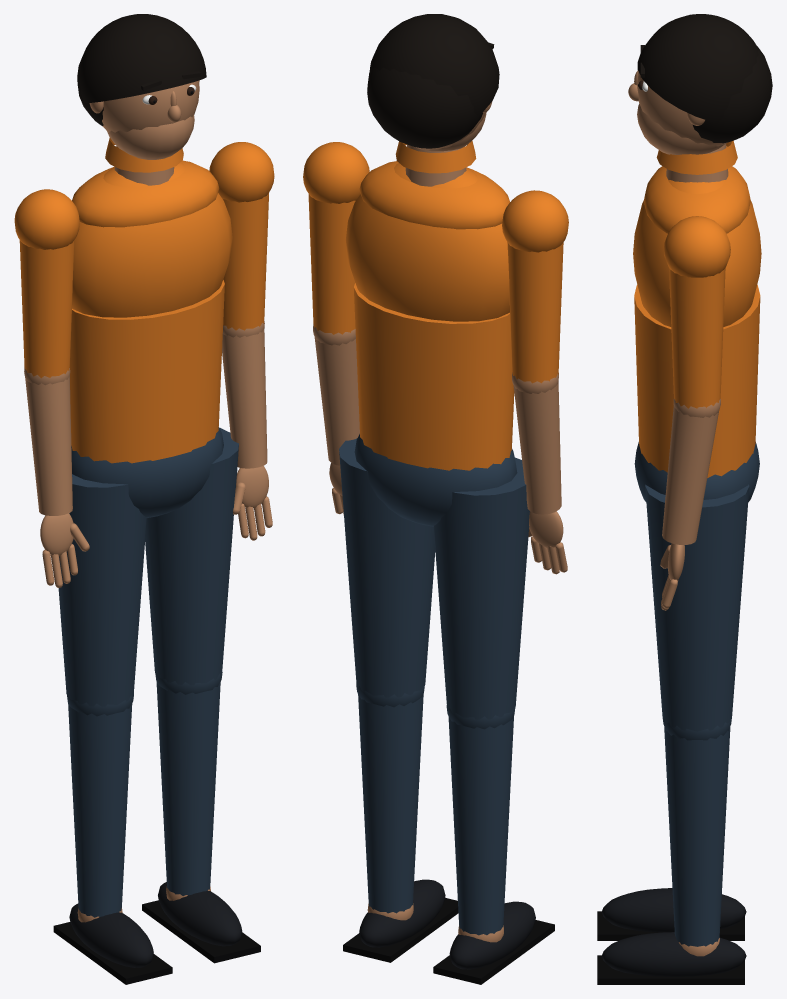
File: villager-market.glb
3 renders of one model, left to right at view 1: azimuth 30°, elevation 25°; view 2: azimuth 150°, elevation 25°; view 3: azimuth 270°, elevation 25°, orthographic. The views are drawn at different scales.
Visible parts, largest first — view 1: leg (×2), arm (×2), object 1, object 2, object 22, object 3, villager-market, object 7, object 8, object 6, object 5; view 2: leg (×2), arm (×2), object 1, object 2, object 22, object 23, object 3, villager-market, object 6, object 5; view 3: leg (×2), arm, object 1, object 22, object 2, object 3, object 23, villager-market, object 7, object 6, object 8, object 5.
Boxes of the visible parts, box(x1,y1,x2,y2) form: leg (×2): box(53, 427, 260, 984); arm (×2): box(14, 142, 274, 587); object 1: box(69, 280, 224, 463); object 2: box(72, 162, 232, 317); object 22: box(79, 14, 206, 102); object 3: box(72, 160, 219, 227); villager-market: box(71, 427, 223, 517); object 7: box(102, 80, 199, 132); object 8: box(107, 114, 194, 159); object 6: box(105, 137, 183, 172); object 5: box(114, 146, 174, 185); leg (×2): box(339, 438, 554, 984); arm (×2): box(303, 142, 568, 574); object 1: box(353, 283, 514, 470); object 2: box(346, 163, 509, 321); object 22: box(369, 14, 499, 116); object 23: box(367, 67, 482, 148); object 3: box(359, 161, 509, 229); villager-market: box(354, 434, 517, 526); object 6: box(395, 141, 476, 173); object 5: box(405, 144, 466, 186); leg (×2): box(597, 484, 749, 984); arm: box(660, 216, 730, 610); object 1: box(634, 285, 760, 477); object 22: box(637, 14, 758, 123); object 2: box(633, 179, 761, 326); object 3: box(643, 166, 750, 233); object 23: box(692, 46, 772, 143); villager-market: box(634, 442, 759, 501); object 7: box(637, 72, 727, 146); object 6: box(656, 140, 737, 174); object 8: box(637, 103, 724, 154); object 5: box(666, 144, 728, 182).
Size of the model in its own units: 0.5822 by 2.02 by 0.344.
